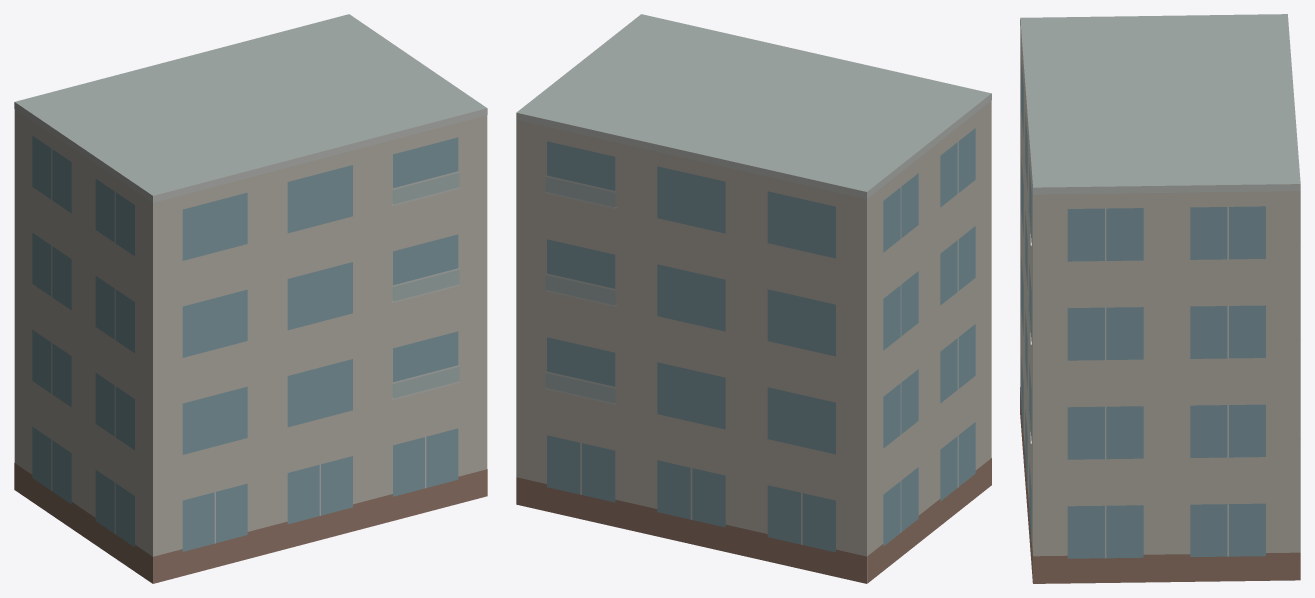
Rendered from survey-upis-32677067.glb.
3 renders of one model, left to right at view 1: azimuth 30°, elevation 25°; view 2: azimuth 150°, elevation 25°; view 3: azimuth 270°, elevation 25°, orthographic. The views are drawn at different scales.
Parts seen in each view (by area): view 1: survey-upis-32677067.tmp; view 2: survey-upis-32677067.tmp; view 3: survey-upis-32677067.tmp.
Boxes of the visible parts, bbox=[...] form: survey-upis-32677067.tmp: bbox=[14, 14, 487, 583]; survey-upis-32677067.tmp: bbox=[516, 14, 991, 583]; survey-upis-32677067.tmp: bbox=[1020, 14, 1300, 583].
Bounding box in the file's own units: 12.74 × 13.55 × 8.7.
